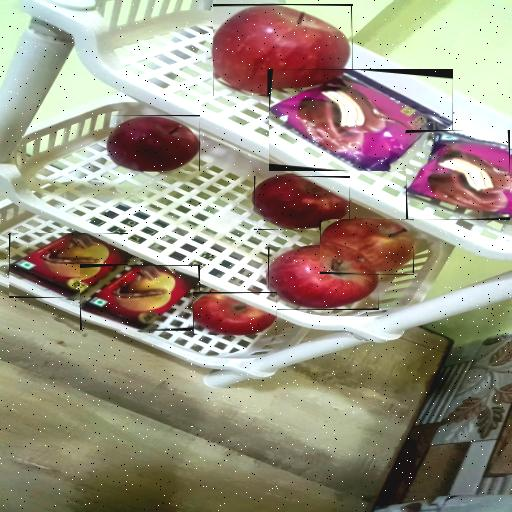Apple: (214, 4, 354, 96), (268, 247, 379, 310), (106, 115, 200, 171), (320, 220, 414, 276), (254, 176, 350, 230), (193, 292, 277, 335)
Choco Fills: (80, 266, 200, 332), (9, 234, 128, 300)
Choco Pie: (269, 69, 453, 171), (406, 130, 510, 220)
